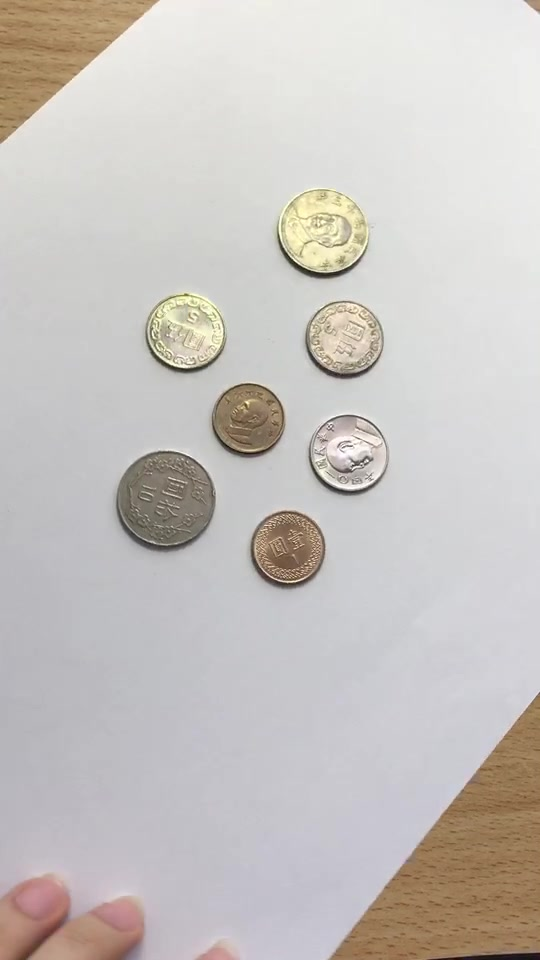1 dallar: (201, 375, 295, 461), (239, 504, 333, 590)
10 dallar: (108, 446, 225, 553), (262, 181, 379, 288)
5 dallar: (139, 288, 230, 376), (299, 290, 390, 378), (301, 407, 392, 495)
